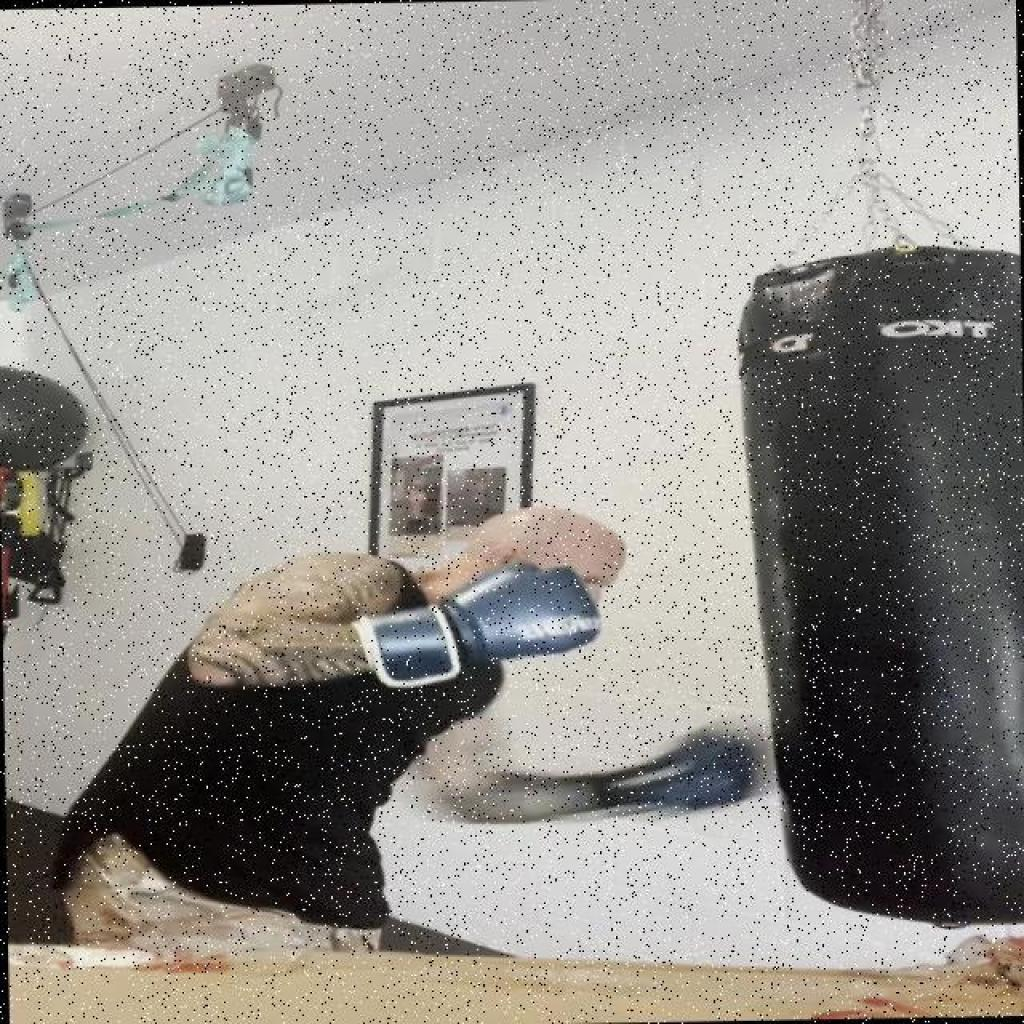bag: (745, 248, 1024, 925)
uppercut: (310, 690, 773, 886)
